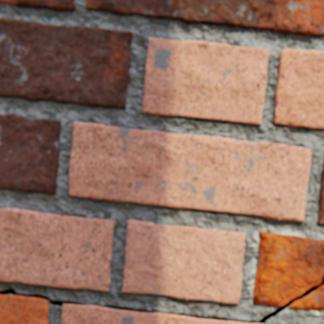brick: (69, 123, 310, 222), (0, 20, 133, 109), (143, 39, 269, 125), (123, 221, 245, 304), (0, 209, 114, 291), (87, 0, 323, 37), (0, 115, 61, 194), (274, 50, 323, 129), (62, 304, 248, 323), (0, 295, 49, 323), (0, 0, 74, 12), (317, 165, 323, 224)
broken_brick: (253, 232, 323, 306), (289, 282, 323, 310)
crack: (175, 273, 323, 323), (0, 288, 81, 305), (105, 306, 156, 312)
